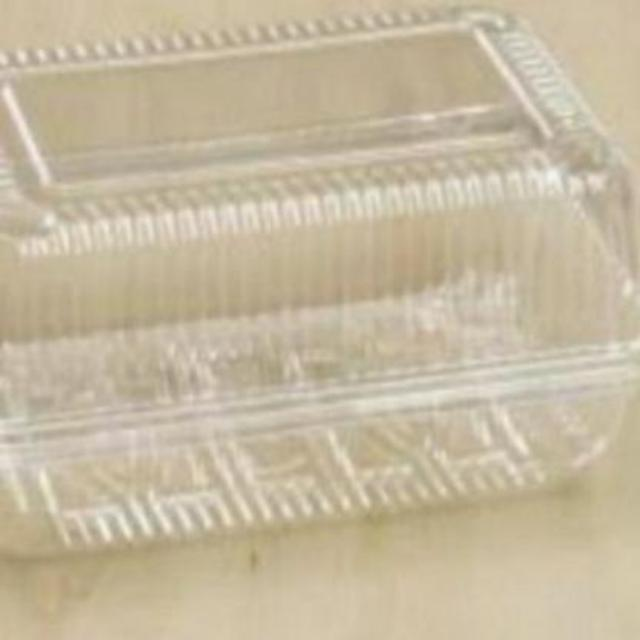plastic_box: (0, 2, 638, 556)
